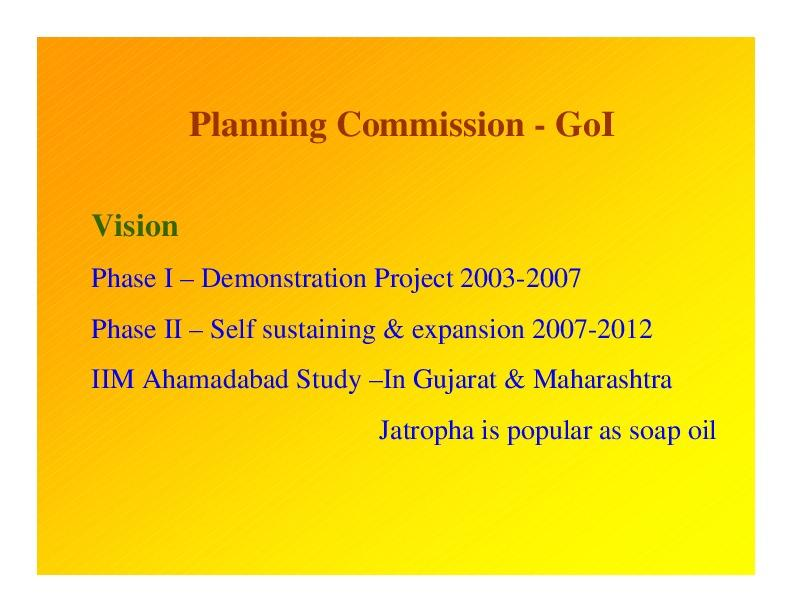paragraph: (79, 250, 748, 474)
subtitle: (90, 199, 196, 247)
title: (173, 94, 647, 158)
